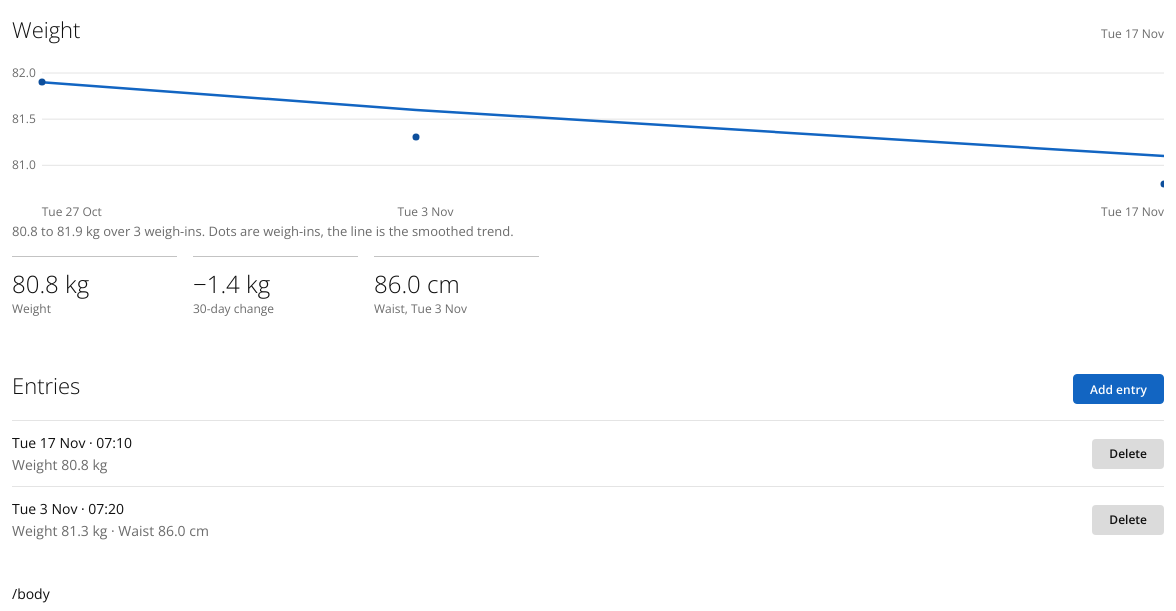
Scenario: BodyPage (3k) › posts the entry with the X-Nimrag header and reloads the list
The width and height of the screenshot is (1176, 611).
Expected: the text "80.8 kg" is shown, [12, 267, 89, 300]
Click the button "Add entry": (1119, 389) [1073, 374, 1164, 404]
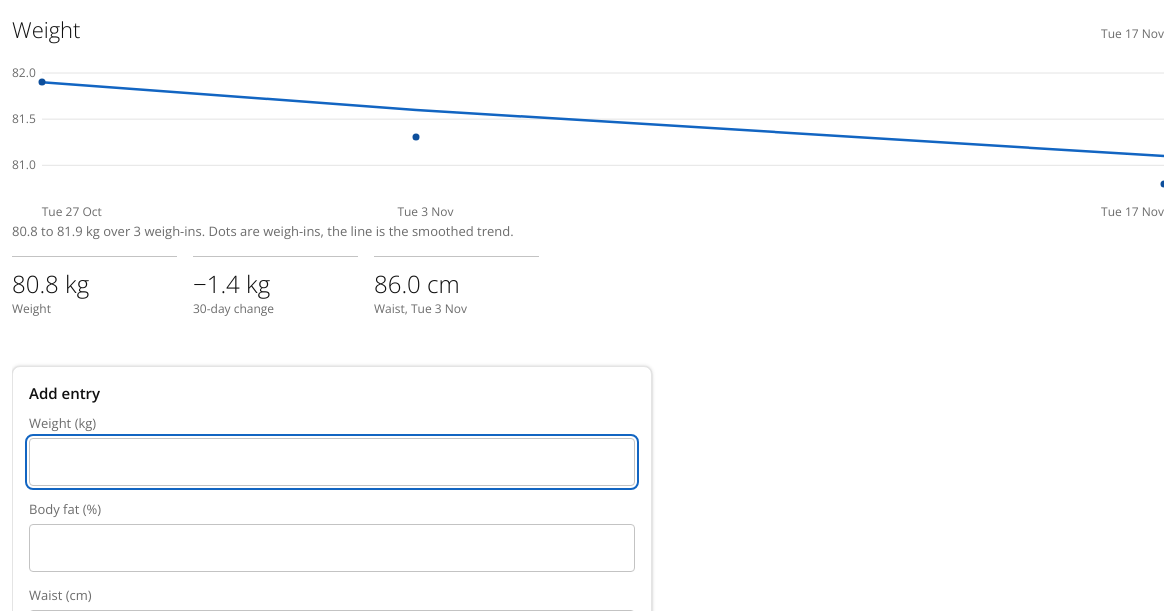
In the field labelled "Weight (kg)": (332, 462) [29, 438, 635, 486], type "79,9"
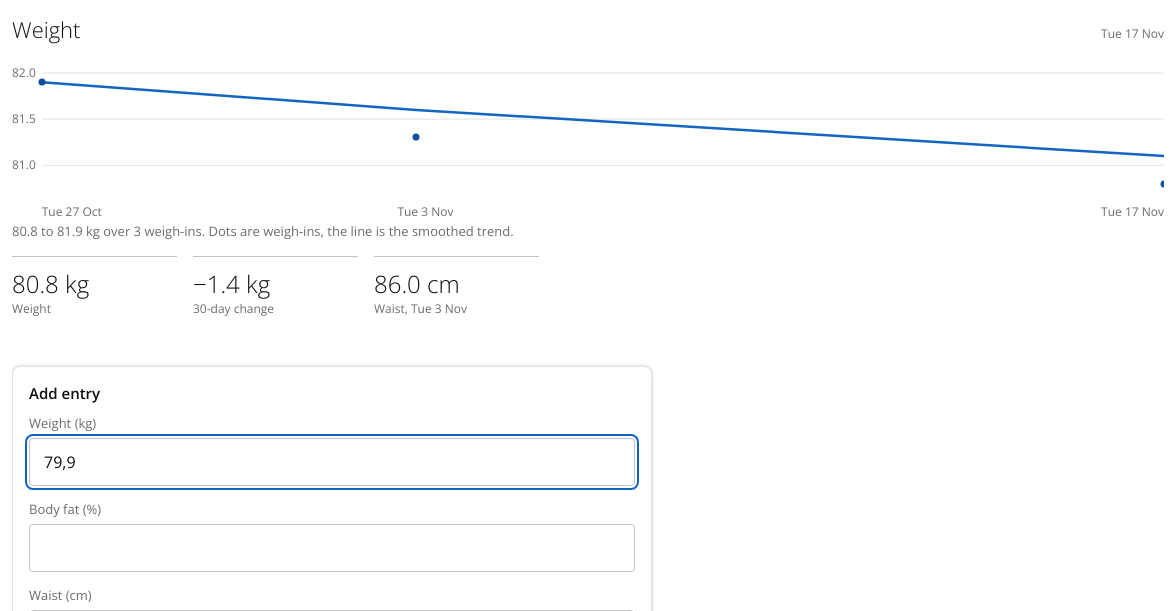
In the field labelled "Body fat (%)": (332, 548) [29, 524, 635, 572], type "18.5"
(page scrolled)
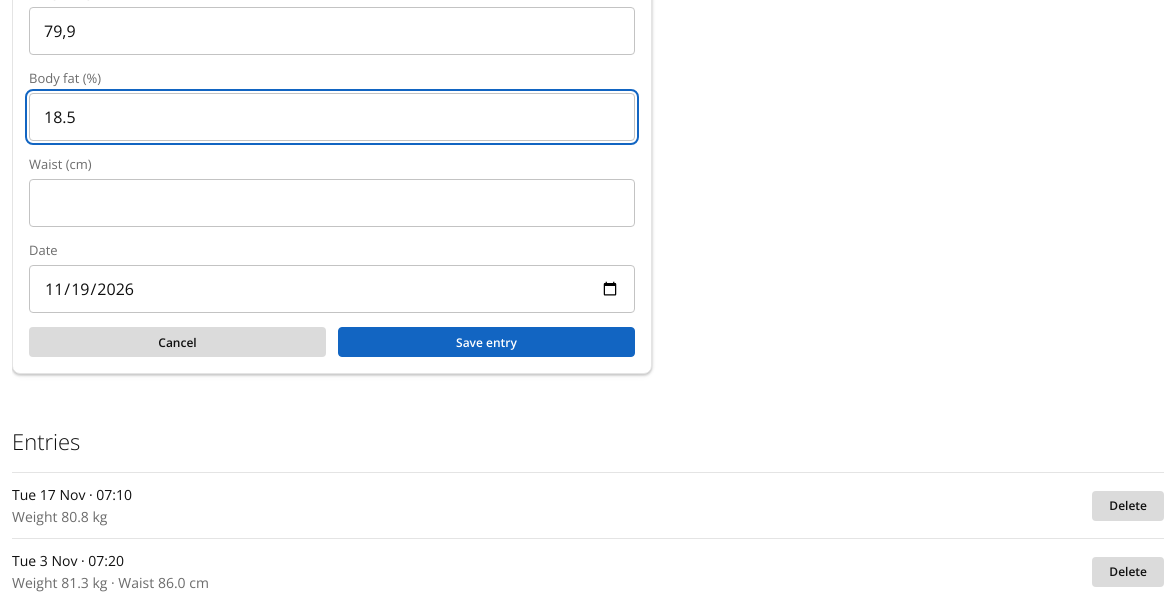
Click the button "Save entry": (486, 342) [338, 327, 635, 357]
(page scrolled)
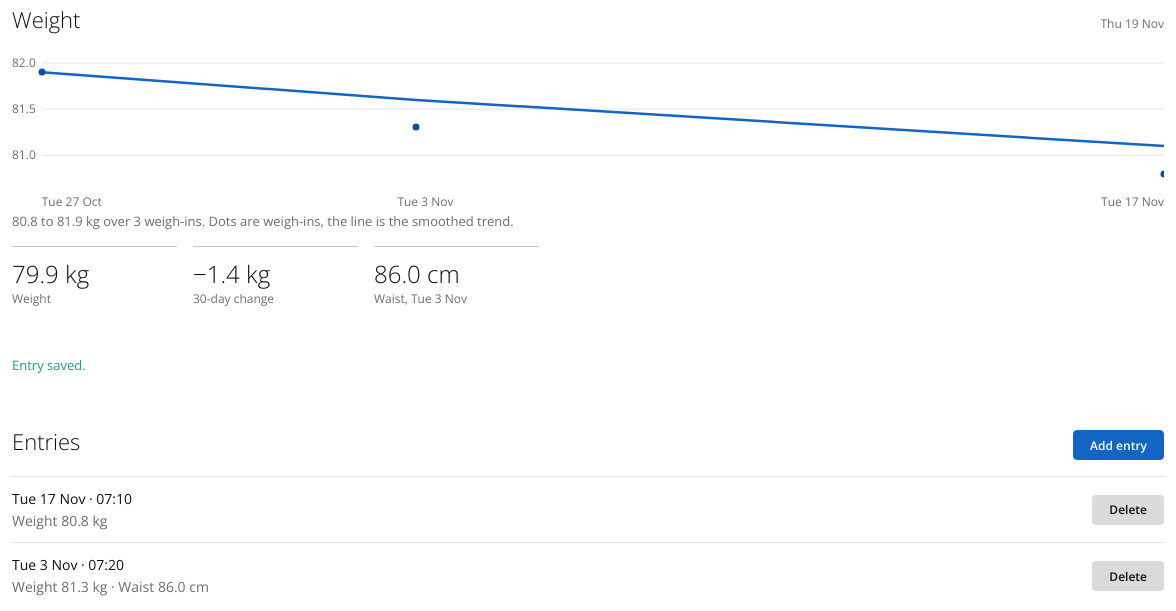
Result: the text "79.9 kg" is shown at [12, 257, 89, 290]
Result: the message shows "Entry saved" at [12, 356, 86, 374]
